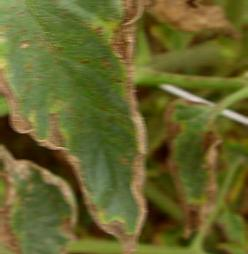Tomato leaf bacterial spot: (0, 0, 182, 254)
